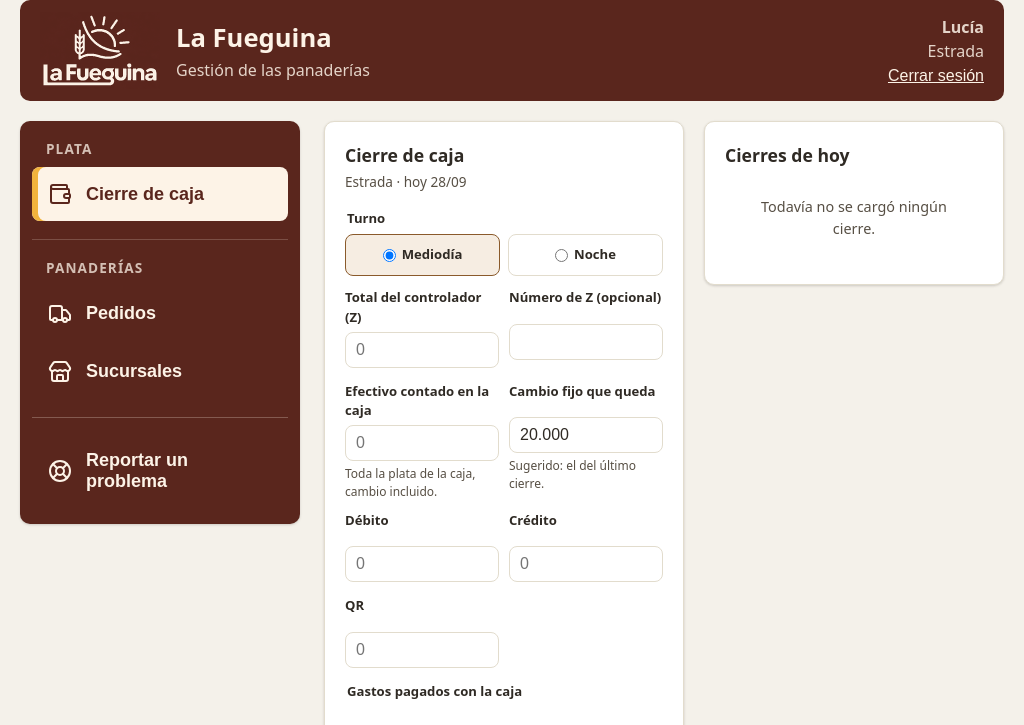
Test: cierre de caja: empleada con permiso › no envía si faltan datos
What coordinates should you click on to do the following:
click the button "Cierre de caja"
I would click on:
 (160, 194)
Its box is x1=32 y1=167 x2=288 y2=221.
(page scrolled)
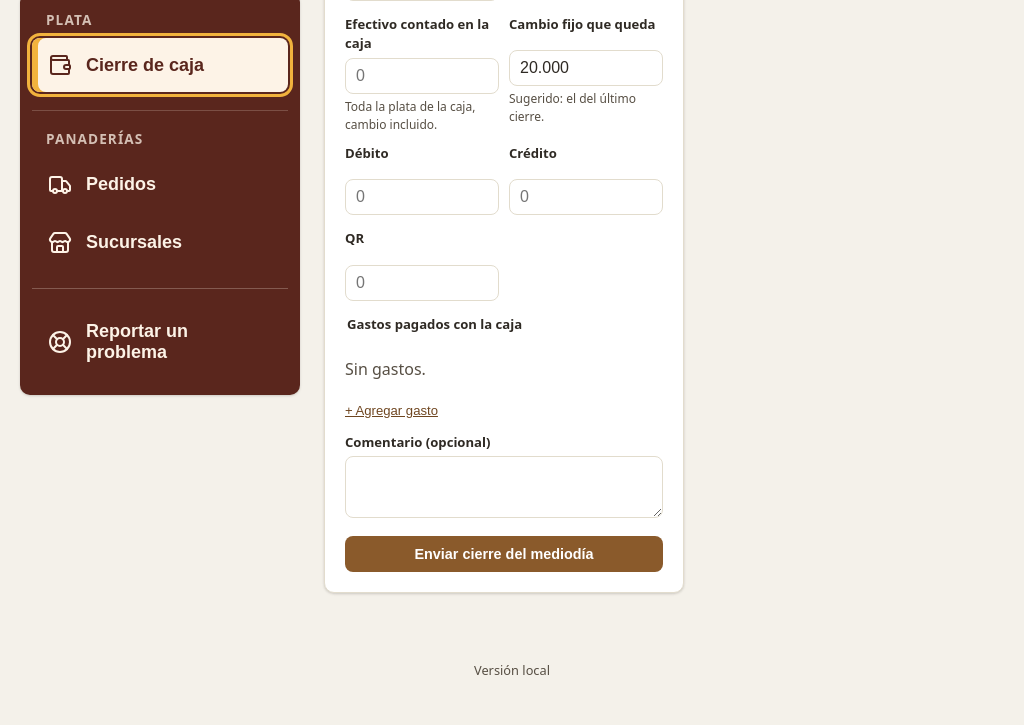
What coordinates should you click on to do the following:
click the button "Enviar cierre del mediodía"
I would click on:
 (504, 554)
Its box is x1=345 y1=536 x2=663 y2=572.
(page scrolled)
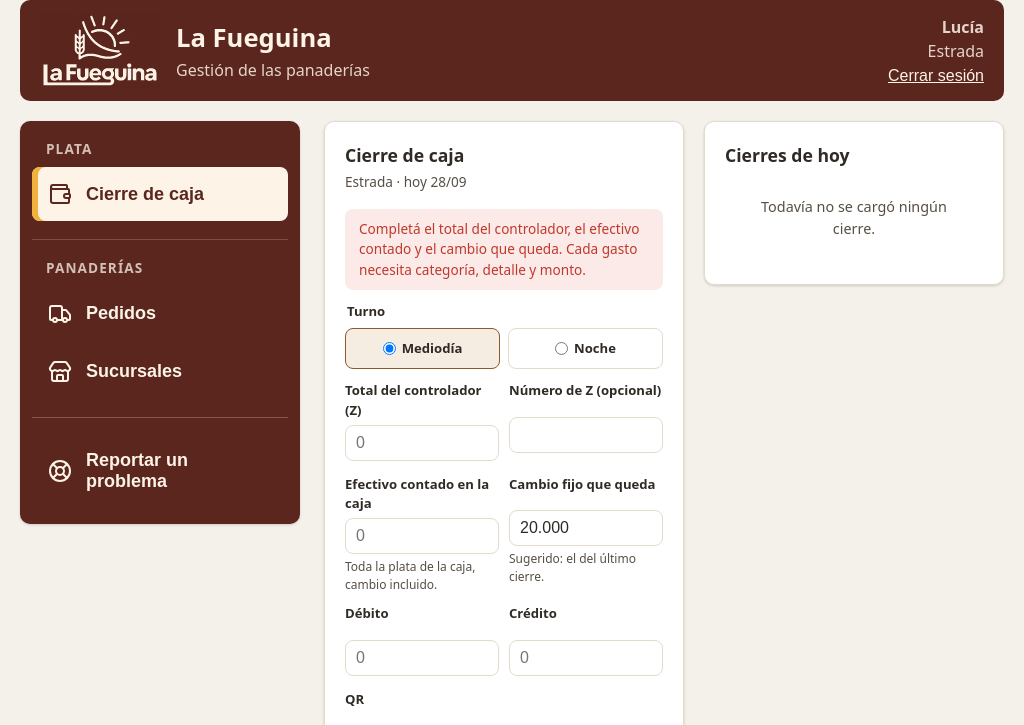
Expected: the message shows "Completá el total del controlador", x1=359 y1=219 x2=639 y2=279
